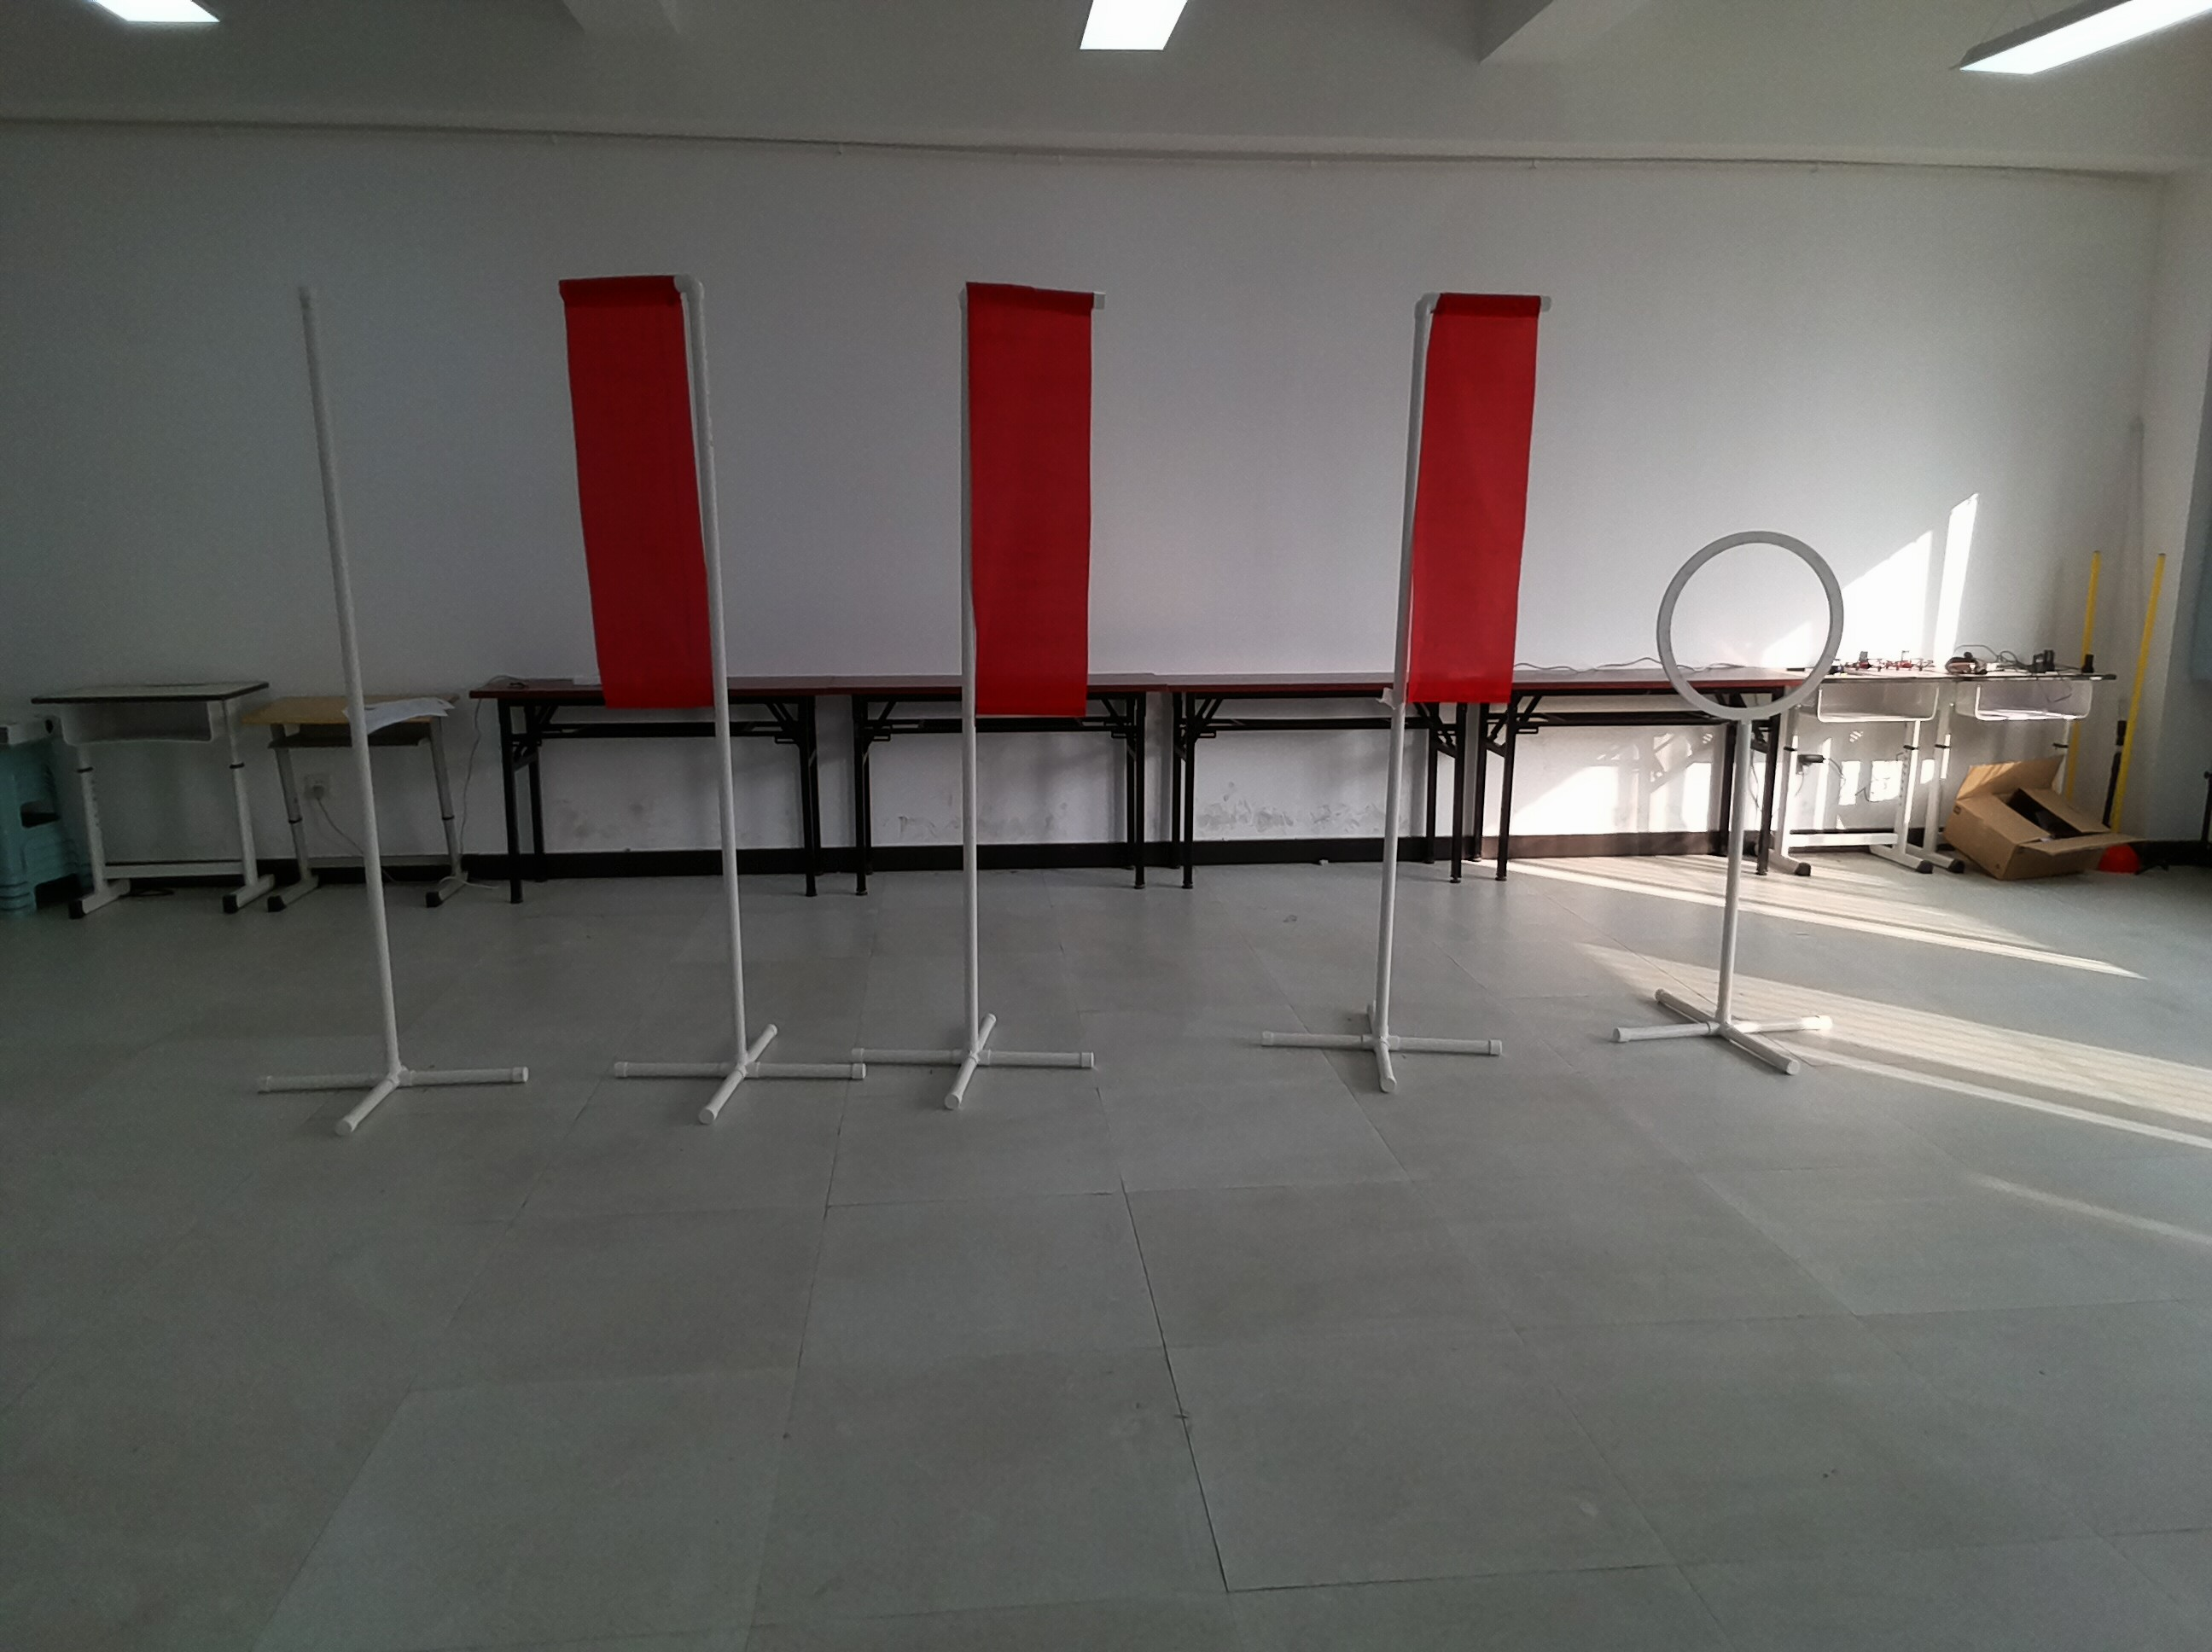gan: (281, 281, 401, 1003)
qi: (543, 269, 736, 746), (1379, 285, 1560, 731), (954, 283, 1105, 765)
quan: (1655, 528, 1848, 744)
